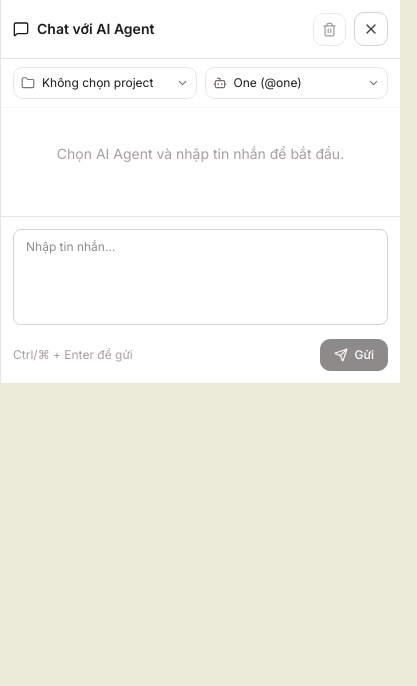
failed chat restores draft and retry sends the user message once
In the text box named "Tin nhắn cho AI Agent": (200, 277) left=13, top=229, right=388, bottom=325, type "Xin chào"
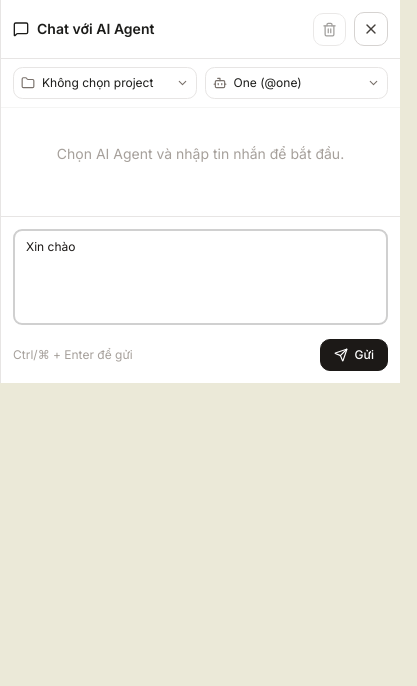
Click the button "Gửi": (354, 355) left=320, top=339, right=388, bottom=371
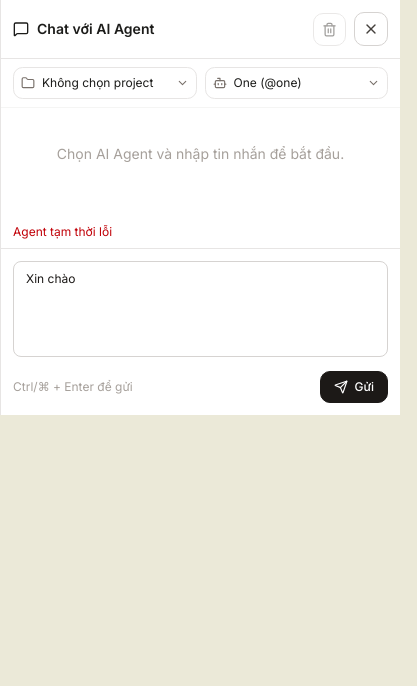
Result: the message reads "Agent tạm thời lỗi" at left=13, top=224, right=112, bottom=239
Click the button "Gửi": (354, 387) left=320, top=371, right=388, bottom=403
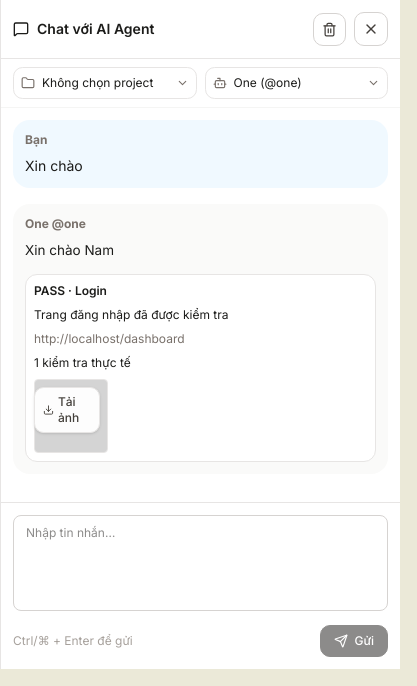
Result: the text "Xin chào Nam" is shown at left=25, top=242, right=114, bottom=258
